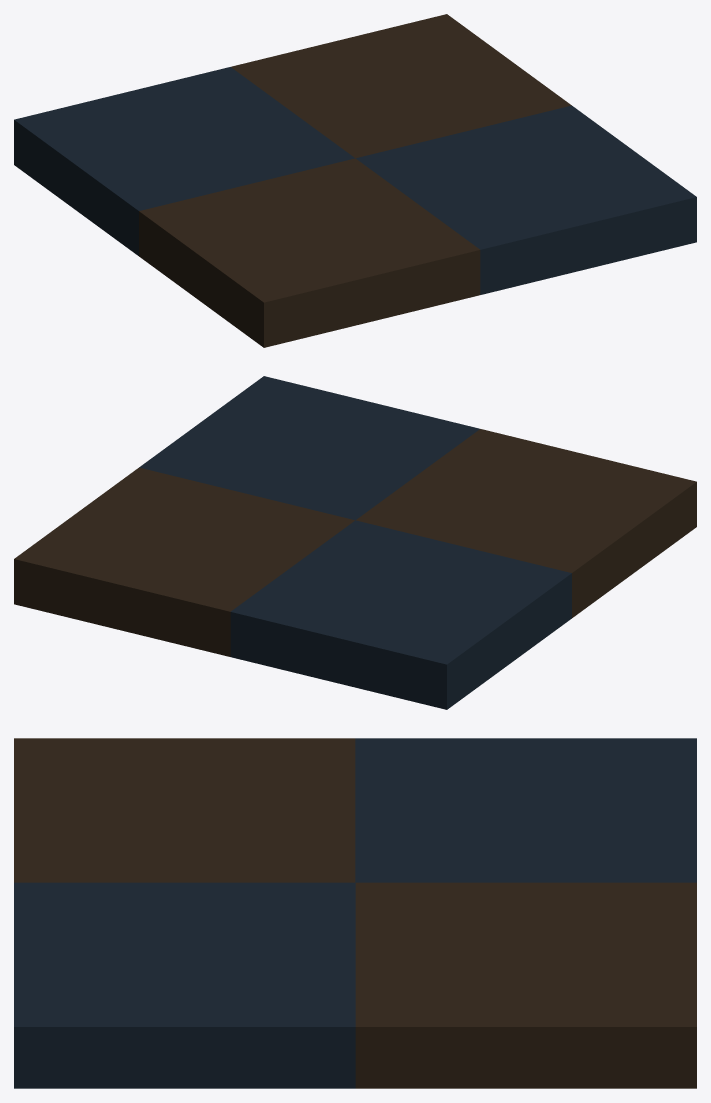
Rendered from testWall.obj.
3 renders of one model, top to bottom at view 1: azimuth 30°, elevation 25°; view 2: azimuth 150°, elevation 25°; view 3: azimuth 270°, elevation 25°, orthographic. The views are drawn at different scales.
Parts seen in each view (by area): view 1: Floor1.001_Cube.028; view 2: Floor1.001_Cube.028; view 3: Floor1.001_Cube.028.
Part boxes in pixels (bbox=[...]): Floor1.001_Cube.028: bbox=[14, 14, 696, 347]; Floor1.001_Cube.028: bbox=[14, 376, 696, 709]; Floor1.001_Cube.028: bbox=[14, 738, 696, 1088].
Size of the model in its own units: 1 by 0.1 by 1.
